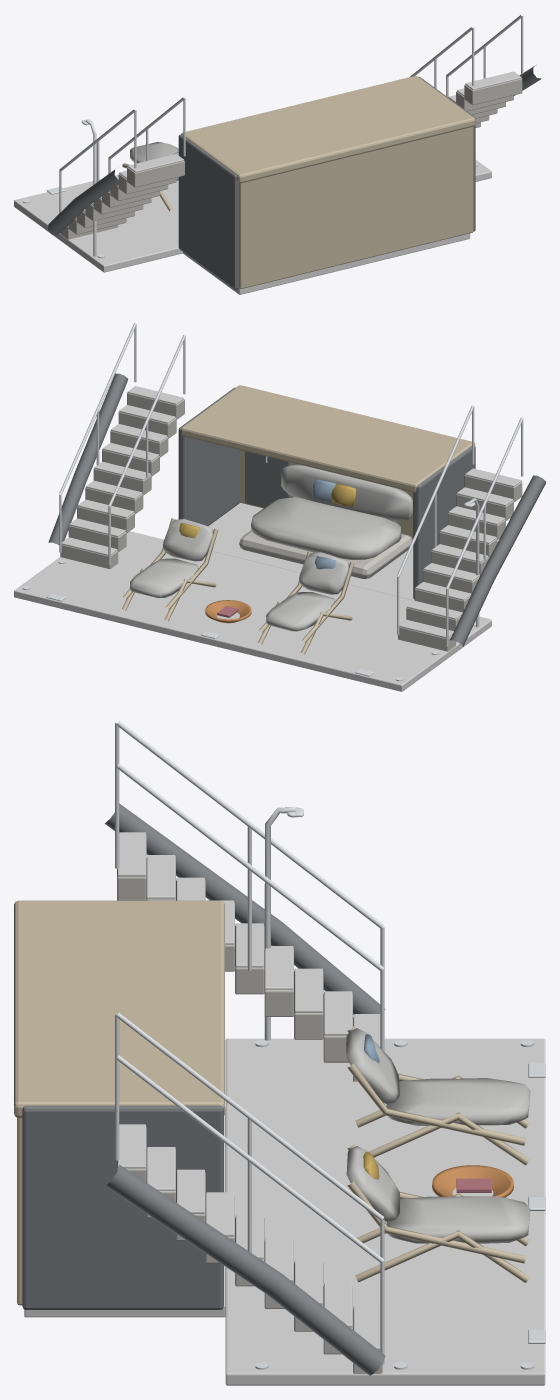
The model's file is context.glb.
The picture shows the model from 3 angles, top to bottom: view 1: azimuth 30°, elevation 25°; view 2: azimuth 150°, elevation 25°; view 3: azimuth 270°, elevation 25°; orthographic projection. The views are drawn at different scales.
Visible parts, largest first — view 1: beach-club | beach-club, beach-club | none; view 2: beach-club | beach-club, beach-club | none; view 3: beach-club | beach-club, beach-club | none.
Part boxes in pixels (x1,y1,x2,y2): beach-club | beach-club: (14, 65, 541, 294); beach-club | none: (22, 15, 523, 258); beach-club | beach-club: (14, 373, 545, 691); beach-club | none: (22, 323, 523, 681); beach-club | beach-club: (14, 803, 545, 1385); beach-club | none: (115, 721, 545, 1369).
Size of the model in its own units: 7.16 by 2.96 by 4.32.
